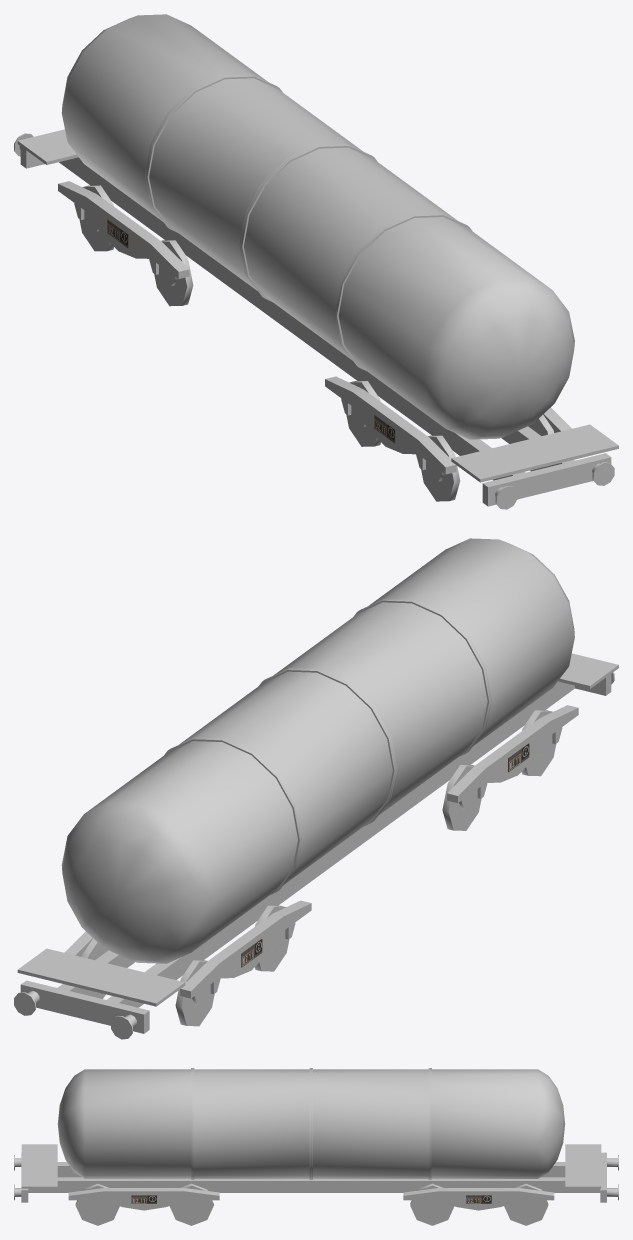
The model's file is train_liquid_lod02.fbx.
3 renders of one model, top to bottom at view 1: azimuth 30°, elevation 25°; view 2: azimuth 150°, elevation 25°; view 3: azimuth 270°, elevation 25°, orthographic. The views are drawn at different scales.
Visible parts, largest first — view 1: Mesh Object; view 2: Mesh Object; view 3: Mesh Object.
Part boxes in pixels (box(x1,y1,x2,y2)): Mesh Object: box(14, 14, 618, 509); Mesh Object: box(14, 538, 618, 1039); Mesh Object: box(14, 1068, 618, 1225).
Size of the model in its own units: 2.51 by 3.38 by 13.56.
